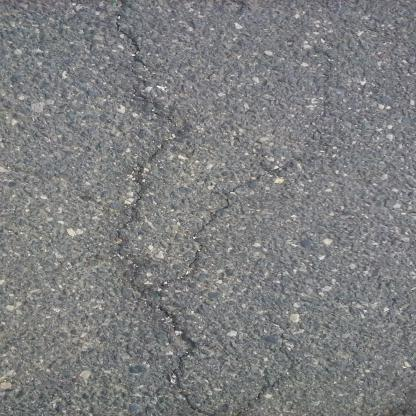Cracks: (101, 0, 282, 415)
